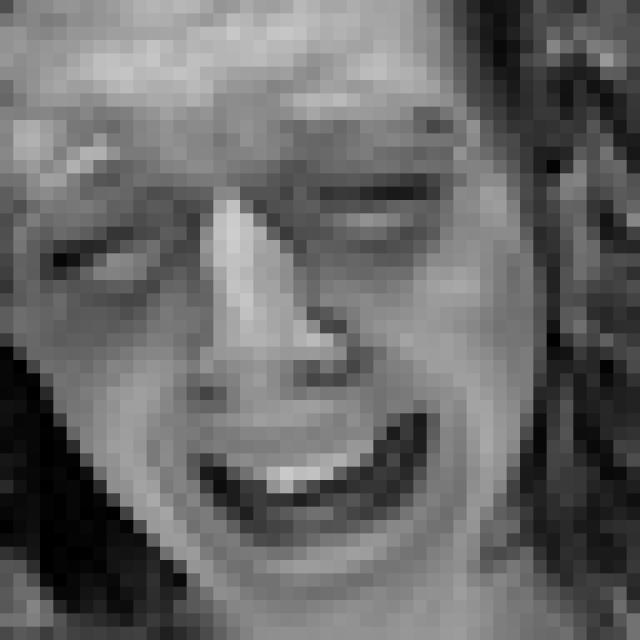sad: (38, 90, 490, 605)
